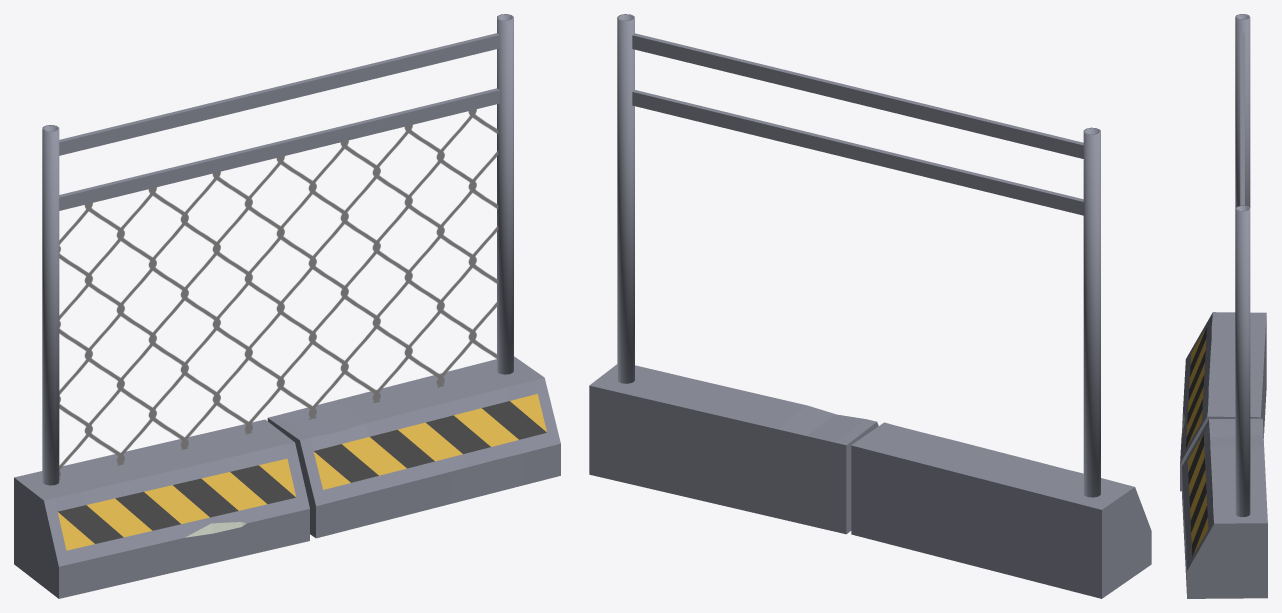
Rendered from fence.glb.
The picture shows the model from 3 angles, left to right: view 1: azimuth 30°, elevation 25°; view 2: azimuth 150°, elevation 25°; view 3: azimuth 270°, elevation 25°; orthographic projection. The views are drawn at different scales.
Parts seen in each view (by area): view 1: Barrier_Large; view 2: Barrier_Large; view 3: Barrier_Large.
Boxes of the visible parts, x1=… form: Barrier_Large: x1=14, y1=14, x2=560, y2=598; Barrier_Large: x1=589, y1=14, x2=1151, y2=598; Barrier_Large: x1=1180, y1=14, x2=1267, y2=598.
Bounding box in the file's own units: 3.81 × 3.18 × 0.6666.
Materials: 5 (1 with a texture image).
